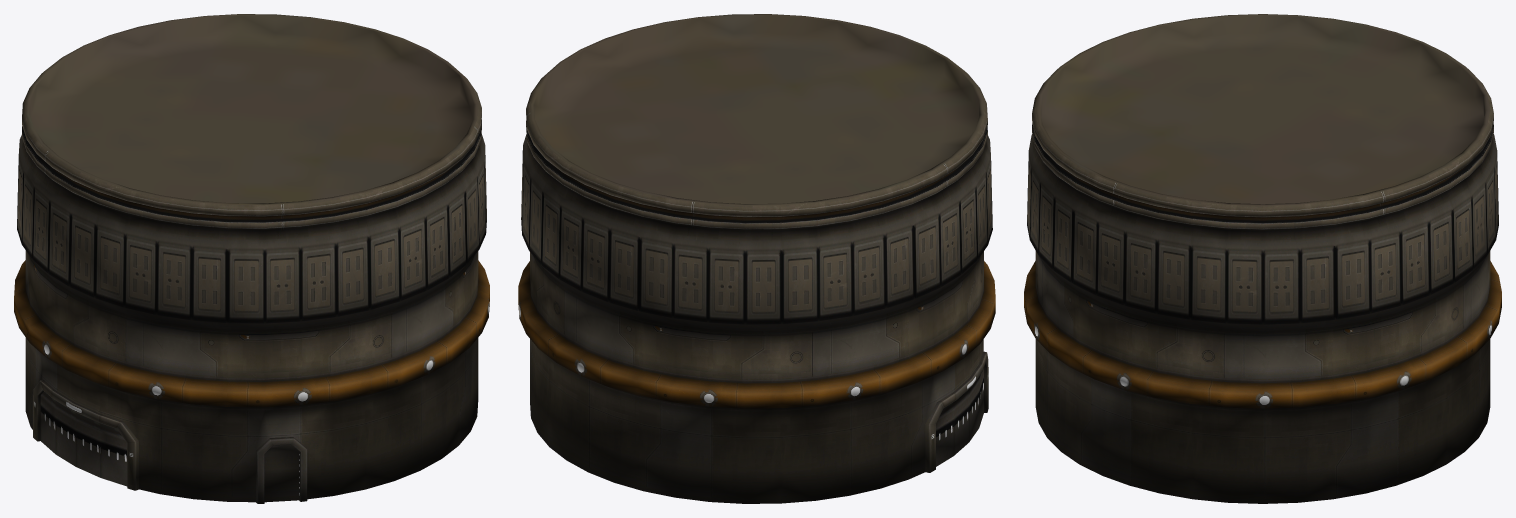
The model's file is tower_base2.glb.
The picture shows the model from 3 angles, left to right: view 1: azimuth 30°, elevation 25°; view 2: azimuth 150°, elevation 25°; view 3: azimuth 270°, elevation 25°; orthographic projection.
Visible parts, largest first — view 1: objBase002; view 2: objBase002; view 3: objBase002.
Boxes of the visible parts, left/top/right/bottom form: objBase002: left=14, top=14, right=489, bottom=503; objBase002: left=518, top=14, right=995, bottom=503; objBase002: left=1024, top=14, right=1501, bottom=503.
Bounding box in the file's own units: 75.6 × 52.04 × 75.6.
Materials: 1 (1 with a texture image).
